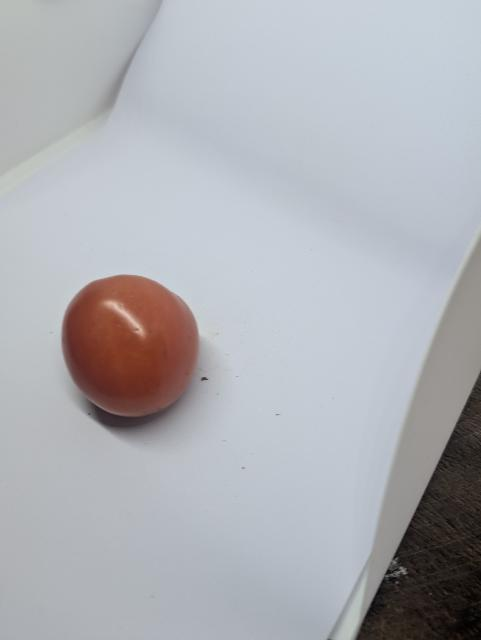red: (57, 268, 211, 432)
